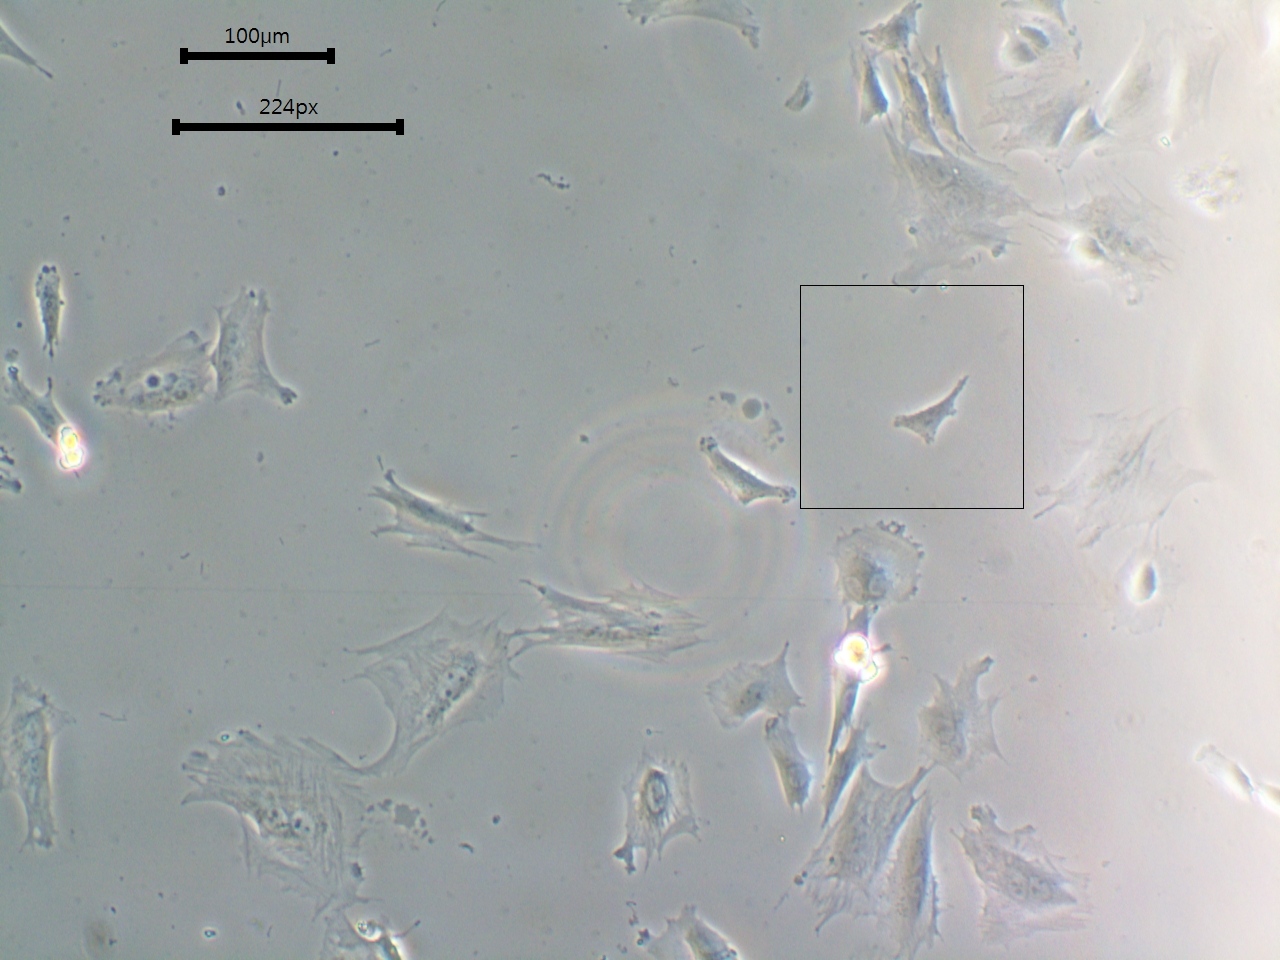dividing: (178, 714, 377, 920), (334, 598, 544, 765), (951, 799, 1128, 954), (501, 573, 723, 678), (197, 276, 319, 421), (1, 665, 80, 865), (818, 523, 945, 617)
medium-polygonal: (367, 462, 558, 573)
medium-spread: (910, 644, 1029, 781), (89, 327, 221, 431), (617, 747, 715, 877), (698, 633, 808, 723)
small-polygonal: (687, 434, 797, 533), (823, 721, 893, 833), (891, 367, 979, 455), (913, 46, 984, 151), (757, 715, 820, 815), (28, 255, 75, 363), (845, 50, 893, 126)
